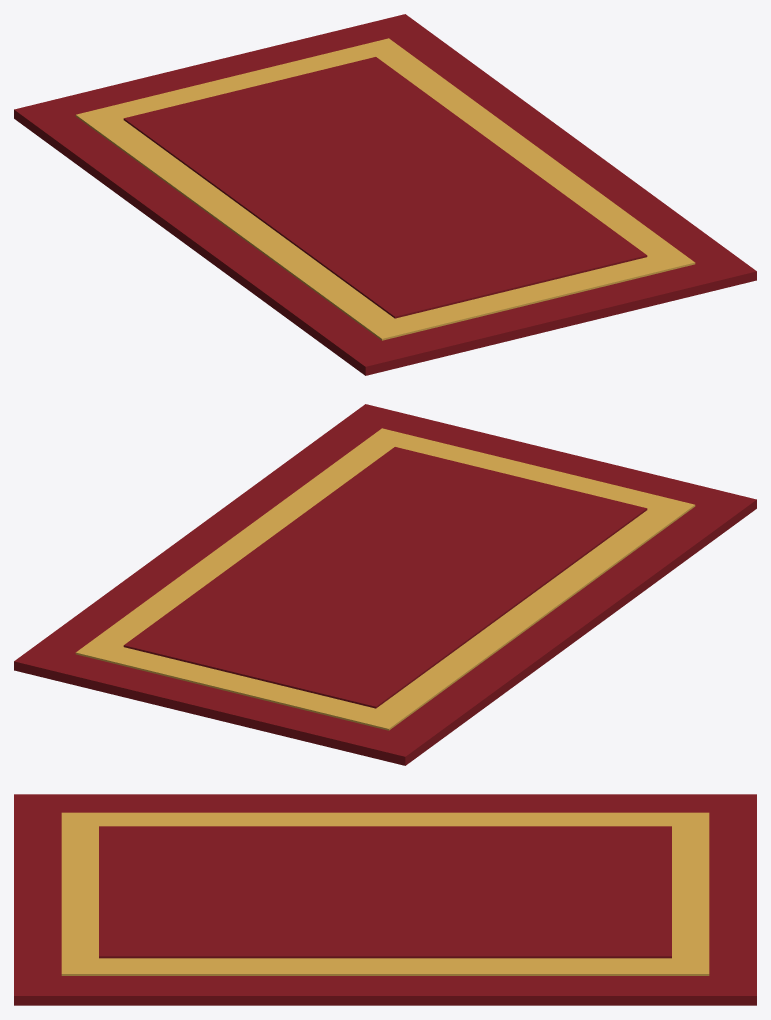
File: item-rug.glb
3 views of the same model, one above another, from view 1: azimuth 30°, elevation 25°; view 2: azimuth 150°, elevation 25°; view 3: azimuth 270°, elevation 25° (orthographic). The views are drawn at different scales.
Parts seen in each view (by area): view 1: #8a1a22_noshadow, #e0b050_noshadow; view 2: #8a1a22_noshadow, #e0b050_noshadow; view 3: #8a1a22_noshadow, #e0b050_noshadow.
Boxes of the visible parts, <box> form: #8a1a22_noshadow: <box>14,14,756,375</box>; #e0b050_noshadow: <box>75,38,695,340</box>; #8a1a22_noshadow: <box>14,404,756,765</box>; #e0b050_noshadow: <box>75,428,695,730</box>; #8a1a22_noshadow: <box>14,794,756,1005</box>; #e0b050_noshadow: <box>61,812,709,975</box>.
Size of the model in its own units: 0.9 by 0.028 by 1.4.
